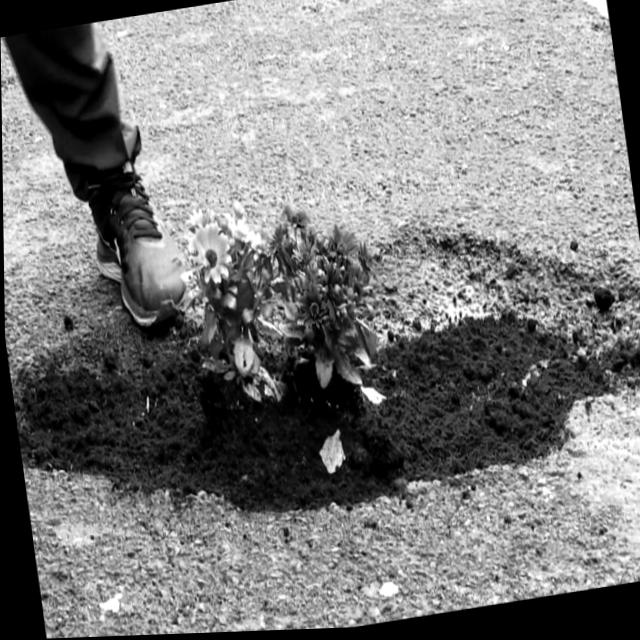pathole: (3, 155, 640, 594)
